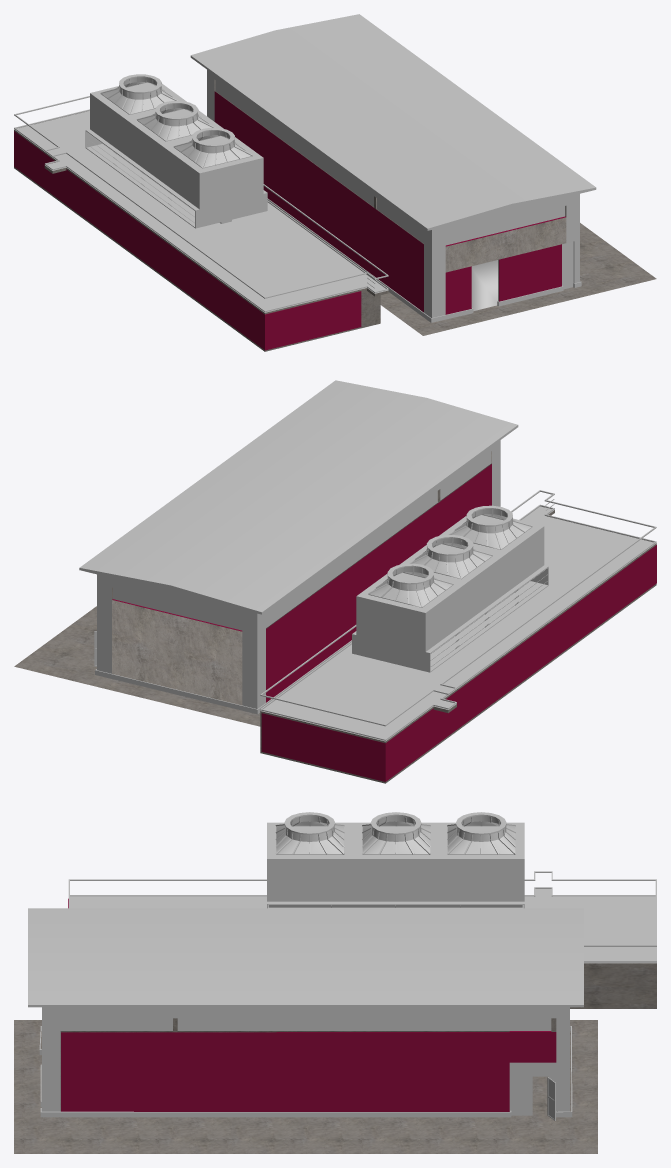
The model's file is outer.DAE.
The picture shows the model from 3 angles, top to bottom: view 1: azimuth 30°, elevation 25°; view 2: azimuth 150°, elevation 25°; view 3: azimuth 270°, elevation 25°; orthographic projection. The views are drawn at different scales.
Visible parts, largest first — view 1: W002_Roof, W012_, W013-ch001, W001-ch007, W015_fan, W009_, W003_, W001_Wall, W001-ch002, W026-ins1, W013_, W017_Cooling_Tower_120CT01__Cooling_Tower_120CT02__Cooling_T (+9 smaller); view 2: W002_Roof, W012_, W013-ch001, W015_fan, W001-ch007, W001_Wall, W003_, W009_, W026-ins1, W017-ins2, W013_, W017_Cooling_Tower_120CT01__Cooling_Tower_120CT02__Cooling_T (+5 smaller); view 3: W002_Roof, W001-ch004, W009_, W015_fan, W003_, W012_, W026, W013_, W008_1, W017-ins1, W017-ins2, W017_Cooling_Tower_120CT01__Cooling_Tower_120CT02__Cooling_T (+3 smaller).
Part boxes in pixels (box(x1,y1,x2,y2)): W002_Roof: box(190, 14, 596, 230); W012_: box(14, 111, 388, 312); W013-ch001: box(14, 131, 361, 350); W001-ch007: box(214, 91, 423, 312); W015_fan: box(85, 82, 267, 228); W009_: box(380, 223, 656, 335); W003_: box(207, 70, 579, 317); W001_Wall: box(214, 80, 566, 301); W001-ch002: box(499, 244, 561, 301); W026-ins1: box(215, 80, 423, 243); W013_: box(14, 129, 388, 351); W017_Cooling_Tower_120CT01__Cooling_Tower_120CT02__Cooling_T: box(173, 127, 252, 168); W002_Roof: box(79, 380, 518, 614); W012_: box(261, 506, 655, 741); W013-ch001: box(281, 545, 656, 781); W015_fan: box(352, 515, 548, 672); W001-ch007: box(266, 464, 491, 702); W001_Wall: box(112, 451, 491, 705); W003_: box(97, 440, 500, 708); W009_: box(14, 606, 260, 726); W026-ins1: box(266, 452, 491, 627); W017-ins2: box(368, 563, 453, 607); W013_: box(260, 510, 656, 783); W017_Cooling_Tower_120CT01__Cooling_Tower_120CT02__Cooling_T: box(448, 505, 532, 549); W002_Roof: box(28, 908, 583, 1007); W001-ch004: box(61, 1032, 509, 1111); W009_: box(14, 1020, 597, 1153); W015_fan: box(267, 822, 524, 908); W003_: box(42, 1007, 569, 1111); W012_: box(70, 889, 656, 963); W026: box(60, 1018, 551, 1030); W013_: box(570, 963, 656, 1008); W008_1: box(39, 1026, 572, 1117); W017-ins1: box(362, 812, 430, 854); W017-ins2: box(447, 812, 515, 854); W017_Cooling_Tower_120CT01__Cooling_Tower_120CT02__Cooling_T: box(275, 812, 344, 854).
Size of what is drawn, in the model's own units: 277 by 344 by 88.29.
